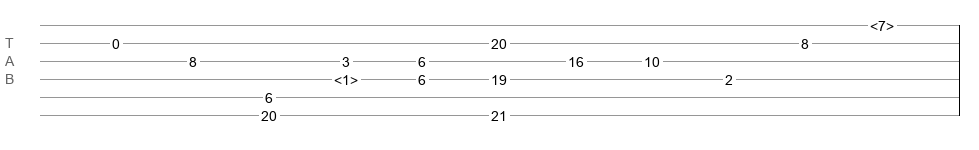0: (112, 36, 120, 46)
10: (644, 54, 660, 64)
16: (568, 54, 584, 64)
19: (491, 72, 507, 82)
2: (725, 72, 733, 82)
20: (261, 108, 277, 118), (491, 36, 507, 46)
21: (491, 108, 507, 118)
3: (342, 54, 350, 64)
6: (265, 90, 273, 100), (418, 54, 426, 64), (418, 72, 426, 82)
8: (189, 54, 197, 64), (801, 36, 809, 46)
harmonic: (334, 72, 358, 82), (870, 18, 894, 28)
